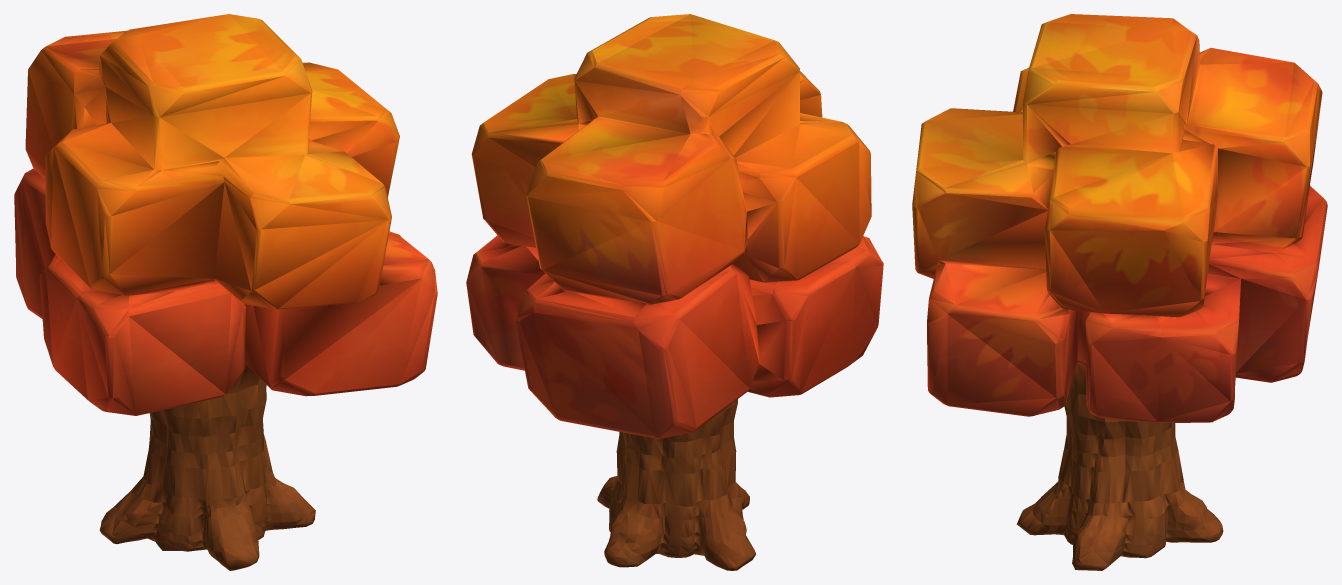
File: autumn_tree.glb
3 renders of one model, left to right at view 1: azimuth 30°, elevation 25°; view 2: azimuth 150°, elevation 25°; view 3: azimuth 270°, elevation 25°, orthographic.
Parts seen in each view (by area): view 1: tripo_node_22233a91-d30a-488e-9962-3e92ead279d1; view 2: tripo_node_22233a91-d30a-488e-9962-3e92ead279d1; view 3: tripo_node_22233a91-d30a-488e-9962-3e92ead279d1.
Part boxes in pixels (left/top/right/bottom): tripo_node_22233a91-d30a-488e-9962-3e92ead279d1: left=14, top=14, right=437, bottom=570; tripo_node_22233a91-d30a-488e-9962-3e92ead279d1: left=466, top=14, right=883, bottom=570; tripo_node_22233a91-d30a-488e-9962-3e92ead279d1: left=912, top=14, right=1327, bottom=570.
Bounding box in the file's own units: 15.33 × 22 × 17.14.
Materials: 1 (1 with a texture image).
